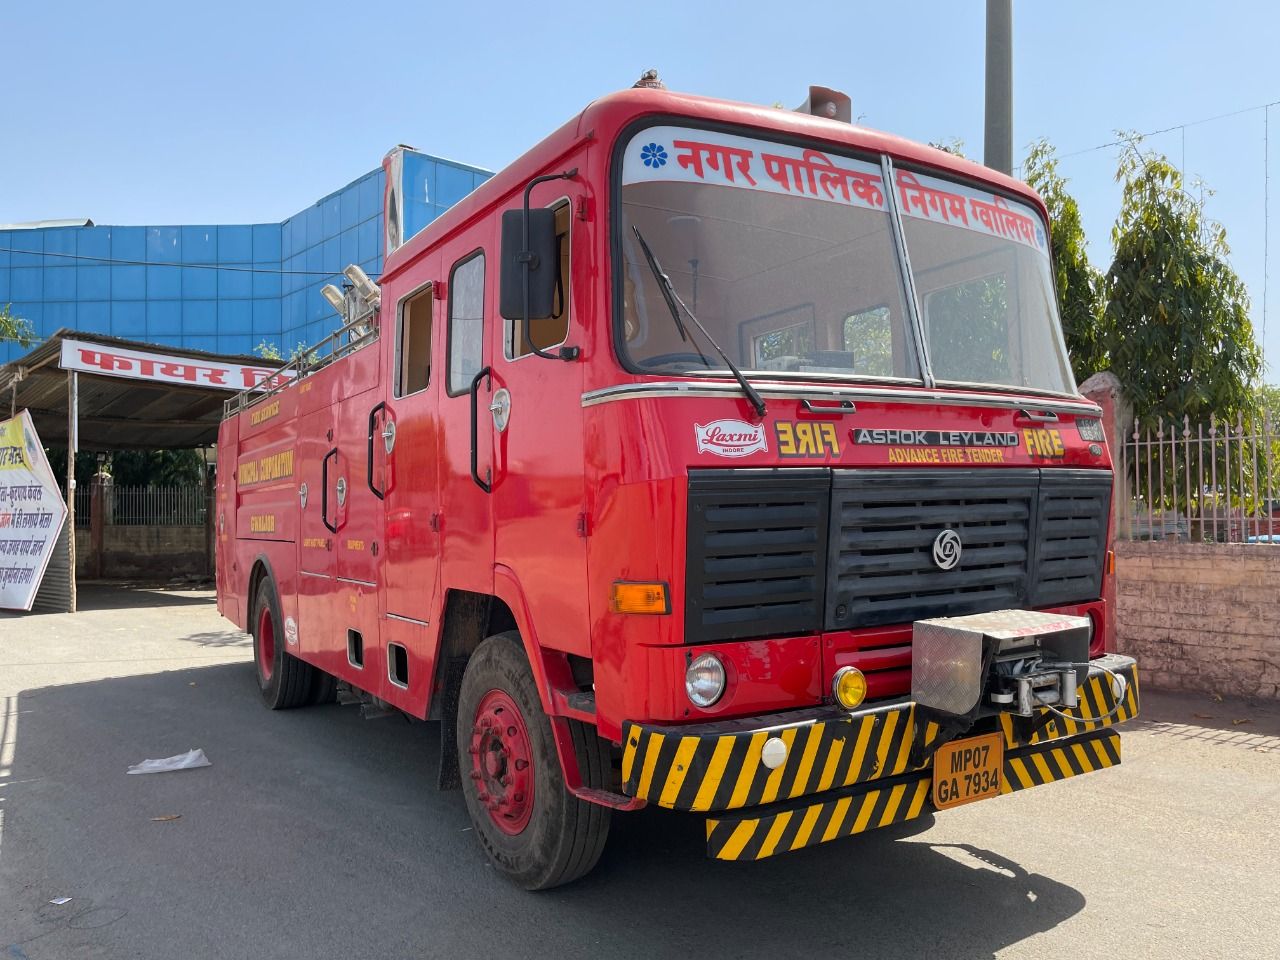fire engine: (220, 152, 1110, 890)
numberplate: (932, 730, 1019, 809)
